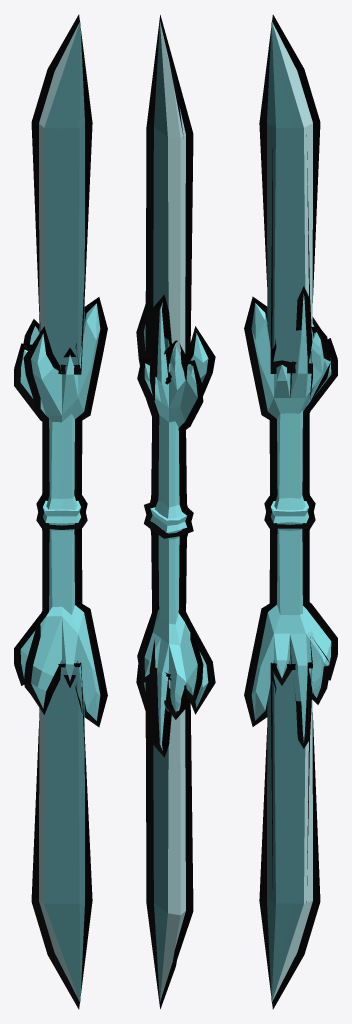
File: Sword_7.fbx
3 renders of one model, left to right at view 1: azimuth 90°, elevation 25°; view 2: azimuth 210°, elevation 25°; view 3: azimuth 270°, elevation 25°, orthographic.
Parts seen in each view (by area): view 1: Sword_7, Sword_7_outliner; view 2: Sword_7, Sword_7_outliner; view 3: Sword_7, Sword_7_outliner.
Boxes of the visible parts, box(x1,y1,x2,y2) form: Sword_7: box(20, 21, 100, 1002); Sword_7_outliner: box(14, 14, 107, 1009); Sword_7: box(143, 21, 208, 1001); Sword_7_outliner: box(136, 15, 215, 1008); Sword_7: box(251, 21, 331, 1002); Sword_7_outliner: box(244, 14, 337, 1009).
Size of the model in its own units: 43 by 718 by 61.27.
